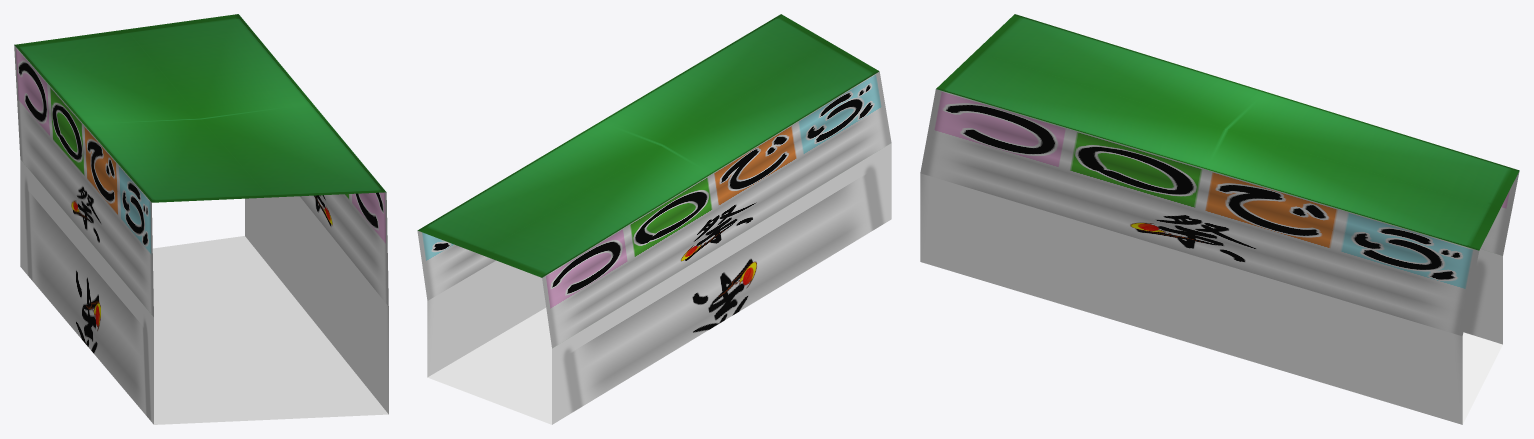
The model's file is CourseAki_Wall_R_4_9.fbx.
3 renders of one model, left to right at view 1: azimuth 30°, elevation 25°; view 2: azimuth 150°, elevation 25°; view 3: azimuth 270°, elevation 25°, orthographic. The views are drawn at different scales.
Visible parts, largest first — view 1: polySurface326; view 2: polySurface326; view 3: polySurface326.
Part boxes in pixels (left/top/right/bottom): polySurface326: left=14, top=14, right=388, bottom=424; polySurface326: left=417, top=14, right=891, bottom=424; polySurface326: left=920, top=14, right=1519, bottom=424.
Bounding box in the file's own units: 3.66 × 2.98 × 6.13.
Materials: 1 (1 with a texture image).
